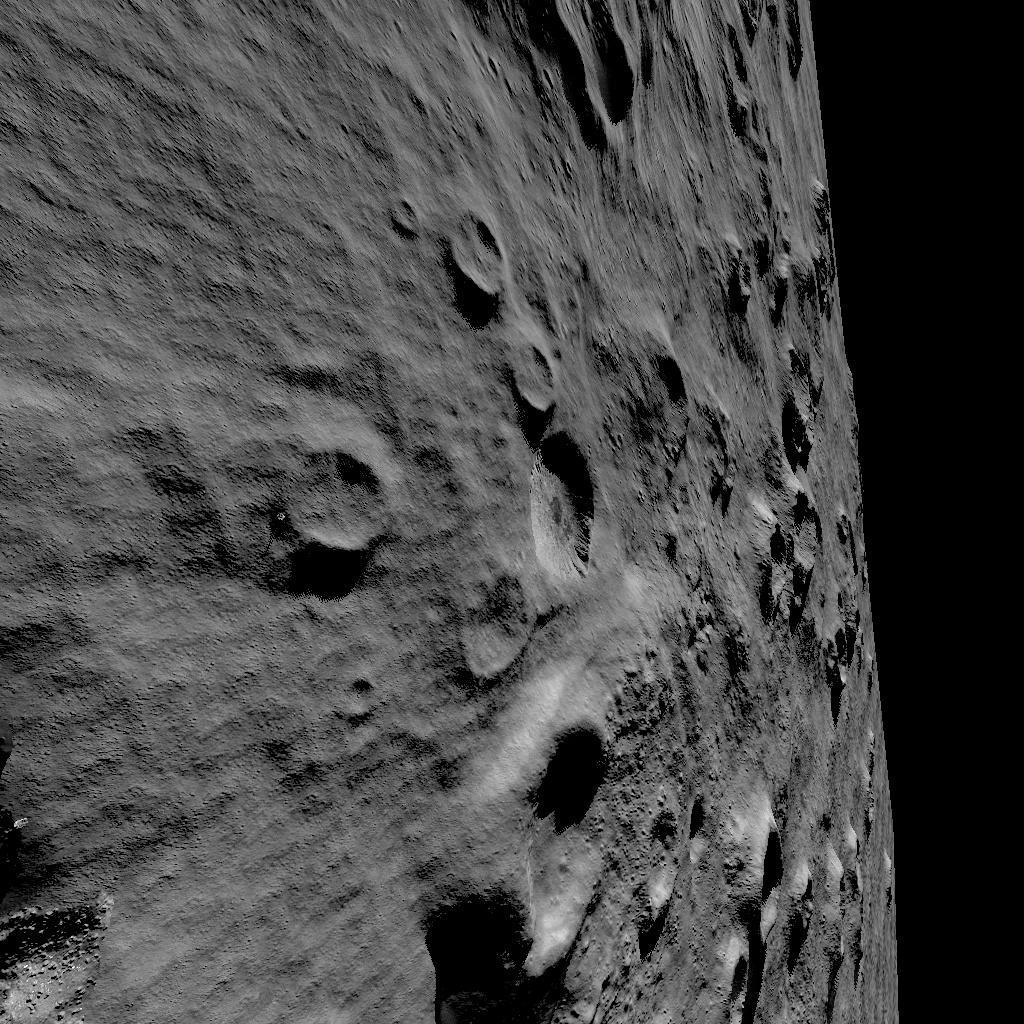Boulders: (0, 705, 128, 1024)
Crater: (446, 662, 626, 1024), (440, 205, 610, 588), (644, 778, 882, 1024), (758, 342, 872, 682), (456, 0, 685, 155), (728, 180, 842, 330), (716, 2, 820, 166), (276, 445, 403, 565), (641, 348, 730, 502)
Plan surface: (0, 0, 428, 433), (146, 705, 433, 1024), (0, 448, 263, 692)
